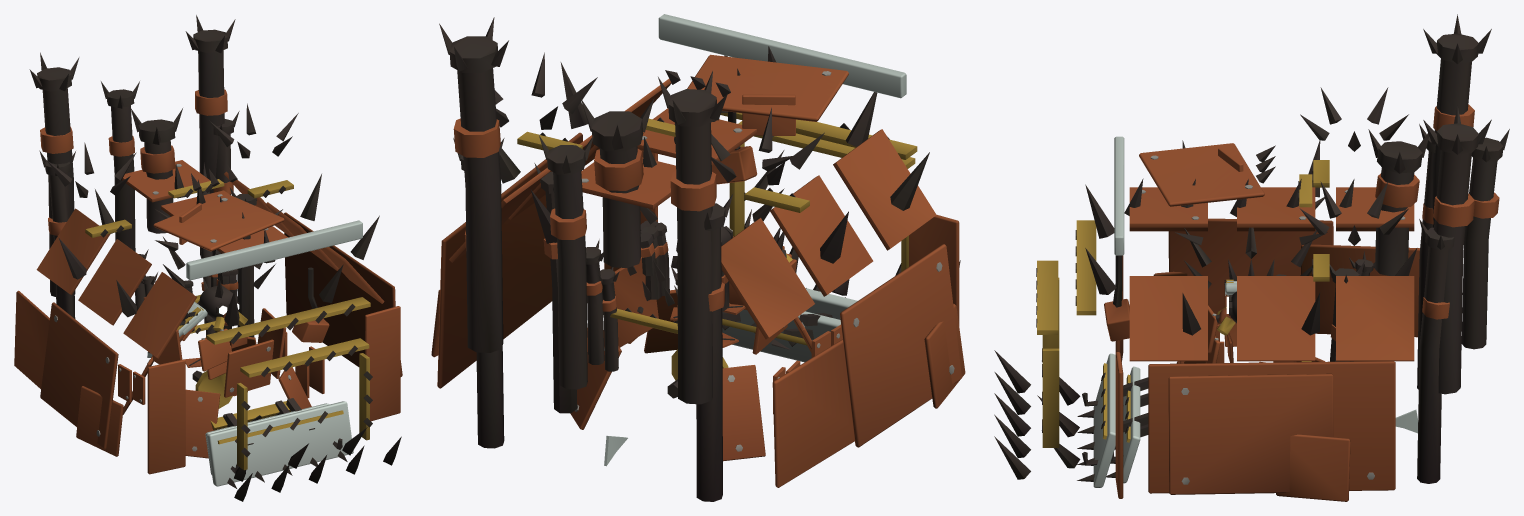
Rendered from dress-ashfall.glb.
3 renders of one model, left to right at view 1: azimuth 30°, elevation 25°; view 2: azimuth 150°, elevation 25°; view 3: azimuth 270°, elevation 25°, orthographic. The views are drawn at different scales.
Visible parts, largest first — view 1: hq__body__Dress, foundry__body__Dress, barracks__body__Dress, tank__body__Team, relay__body__Dress, foundry__body__Team, tower__body__Dress, tank__body__Dress, breaker__body__Dress, antitank__body__Dress, tower__barrel__Dress, tank__turret__Dress (+2 smaller); view 2: hq__body__Dress, barracks__body__Dress, foundry__body__Dress, relay__body__Dress, foundry__body__Team, tower__body__Dress, tank__body__Dress, breaker__body__Dress, tower__barrel__Dress, breaker__body__Team, tank__turret__Dress, kite__body__Dress (+3 smaller); view 3: hq__body__Dress, barracks__body__Dress, foundry__body__Dress, tank__body__Team, tank__body__Dress, relay__body__Dress, foundry__body__Team, breaker__body__Team, tower__barrel__Dress, breaker__body__Dress, antitank__body__Dress, tower__body__Dress.
Part boxes in pixels (x1,y1,x2,y2): hq__body__Dress: [29, 15, 402, 501]; foundry__body__Dress: [14, 103, 400, 474]; barracks__body__Dress: [36, 111, 384, 481]; tank__body__Team: [206, 401, 353, 486]; relay__body__Dress: [123, 187, 311, 458]; foundry__body__Team: [186, 220, 362, 280]; tower__body__Dress: [152, 209, 286, 397]; tank__body__Dress: [118, 247, 347, 488]; breaker__body__Dress: [133, 256, 309, 427]; antitank__body__Dress: [182, 280, 247, 348]; tower__barrel__Dress: [168, 164, 237, 244]; tank__turret__Dress: [195, 277, 230, 371]; hq__body__Dress: [431, 17, 965, 447]; barracks__body__Dress: [449, 46, 936, 501]; foundry__body__Dress: [437, 52, 959, 487]; relay__body__Dress: [534, 150, 811, 461]; foundry__body__Team: [658, 14, 906, 98]; tower__body__Dress: [613, 136, 796, 354]; tank__body__Dress: [586, 239, 845, 373]; breaker__body__Dress: [587, 267, 830, 414]; tower__barrel__Dress: [645, 70, 795, 136]; breaker__body__Team: [722, 309, 840, 362]; tank__turret__Dress: [604, 254, 791, 333]; kite__body__Dress: [637, 303, 790, 398]; hq__body__Dress: [994, 14, 1509, 501]; barracks__body__Dress: [1037, 124, 1454, 483]; foundry__body__Dress: [1104, 87, 1429, 498]; tank__body__Team: [1093, 353, 1115, 487]; tank__body__Dress: [1077, 251, 1375, 481]; relay__body__Dress: [1176, 227, 1364, 363]; foundry__body__Team: [1114, 136, 1124, 255]; breaker__body__Team: [1123, 366, 1140, 483]; tower__barrel__Dress: [1218, 145, 1312, 207]; breaker__body__Dress: [1106, 341, 1293, 477]; antitank__body__Dress: [1215, 261, 1286, 342]; tower__body__Dress: [1175, 197, 1327, 363].
Bounding box in the file's own units: 5.17 × 5.04 × 6.26.
